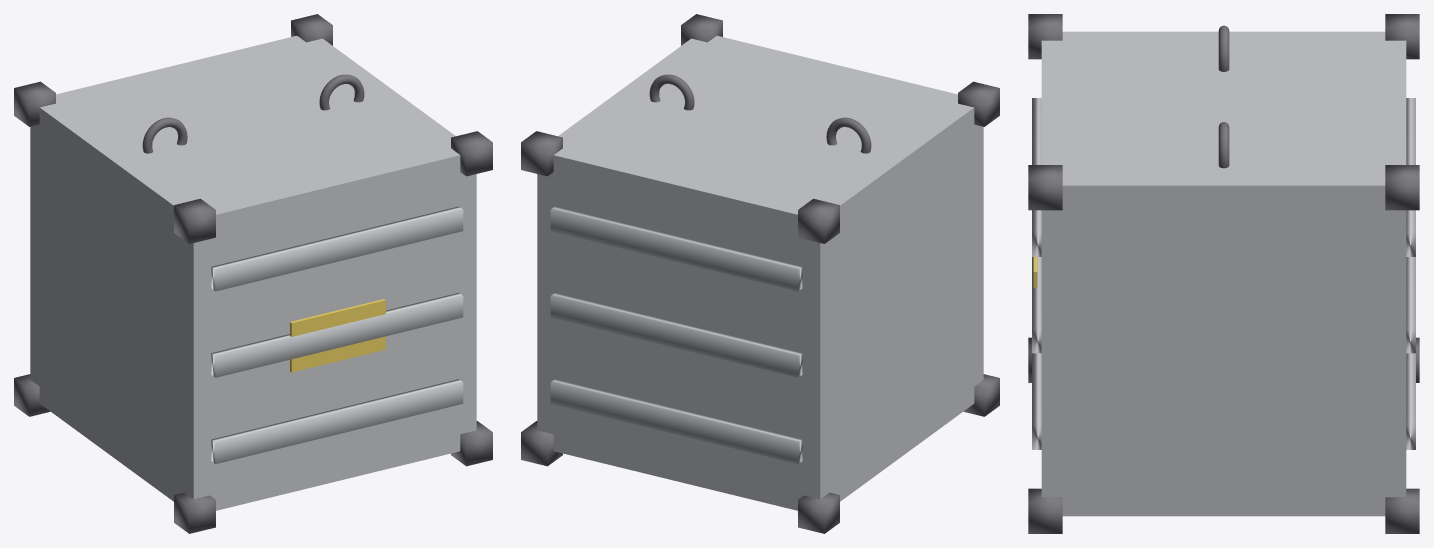
Rendered from crate_industrial.glb.
The picture shows the model from 3 angles, left to right: view 1: azimuth 30°, elevation 25°; view 2: azimuth 150°, elevation 25°; view 3: azimuth 270°, elevation 25°; orthographic projection. The views are drawn at different scales.
Parts seen in each view (by area): view 1: Cube, Cube.001, Cube.003, Cube.002, Cube.015, Cube.008, Cube.007, Cube.012, Cube.010, Cube.011, Cube.009, Cube.014 (+2 smaller); view 2: Cube, Cube.004, Cube.006, Cube.005, Cube.010, Cube.009, Cube.014, Cube.008, Cube.013, Cube.007, Cube.012, Torus (+1 smaller); view 3: Cube, Cube.012, Cube.014, Cube.011, Cube.013, Cube.008, Cube.010, Cube.003, Cube.006, Cube.001, Cube.004, Cube.005 (+3 smaller).
Boxes of the visible parts, x1,y1,x2,y2 form: Cube: (30,35,476,510); Cube.001: (211,379,463,463); Cube.003: (211,206,463,291); Cube.002: (211,293,463,377); Cube.015: (290,299,385,372); Cube.008: (174,198,215,243); Cube.007: (174,492,215,533); Cube.012: (451,131,492,176); Cube.010: (14,81,55,126); Cube.011: (451,421,492,466); Cube.009: (14,374,50,416); Cube.014: (291,14,332,45); Cube: (537,35,983,510); Cube.004: (550,379,802,463); Cube.006: (550,206,802,291); Cube.005: (550,293,802,377); Cube.010: (798,198,839,243); Cube.009: (798,492,839,533); Cube.014: (521,131,562,176); Cube.008: (958,81,999,126); Cube.013: (521,421,562,466); Cube.007: (963,374,999,416); Cube.012: (681,14,722,45); Torus: (826,117,871,153); Cube: (1041,31,1406,516); Cube.012: (1028,165,1062,210); Cube.014: (1385,165,1419,210); Cube.011: (1028,488,1062,533); Cube.013: (1385,488,1419,533); Cube.008: (1028,14,1062,59); Cube.010: (1385,14,1419,59); Cube.003: (1032,98,1041,256); Cube.006: (1406,98,1415,256); Cube.001: (1032,353,1041,449); Cube.004: (1406,353,1415,449); Cube.005: (1406,257,1415,353).
Bounding box in the file's own units: 0.515 × 0.5445 × 0.515.
